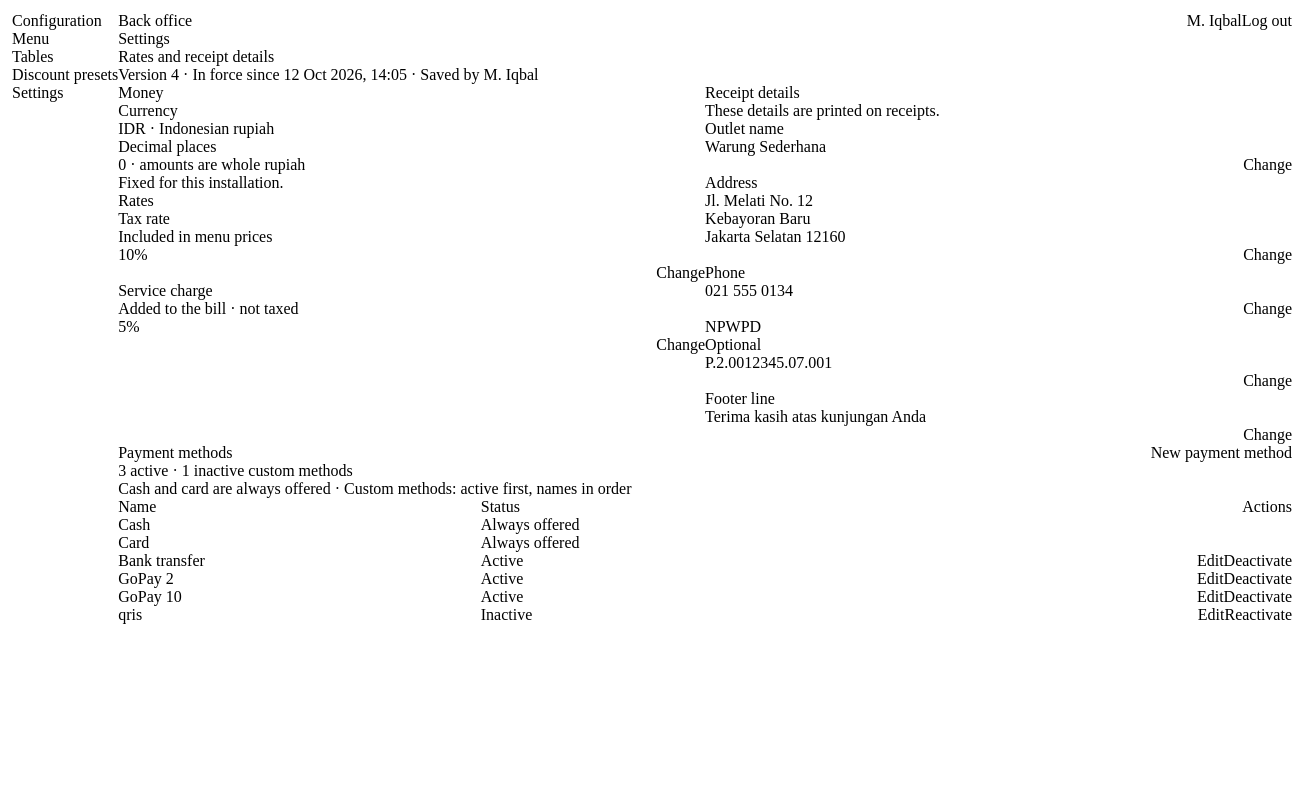
Scenario: AC 1. the order and the two fixed rows › sorts the answered record: a deactivated method moves below the active ones
Click the button "Deactivate" in the row of "Bank transfer" at (1258, 561), box [1224, 552, 1292, 570]
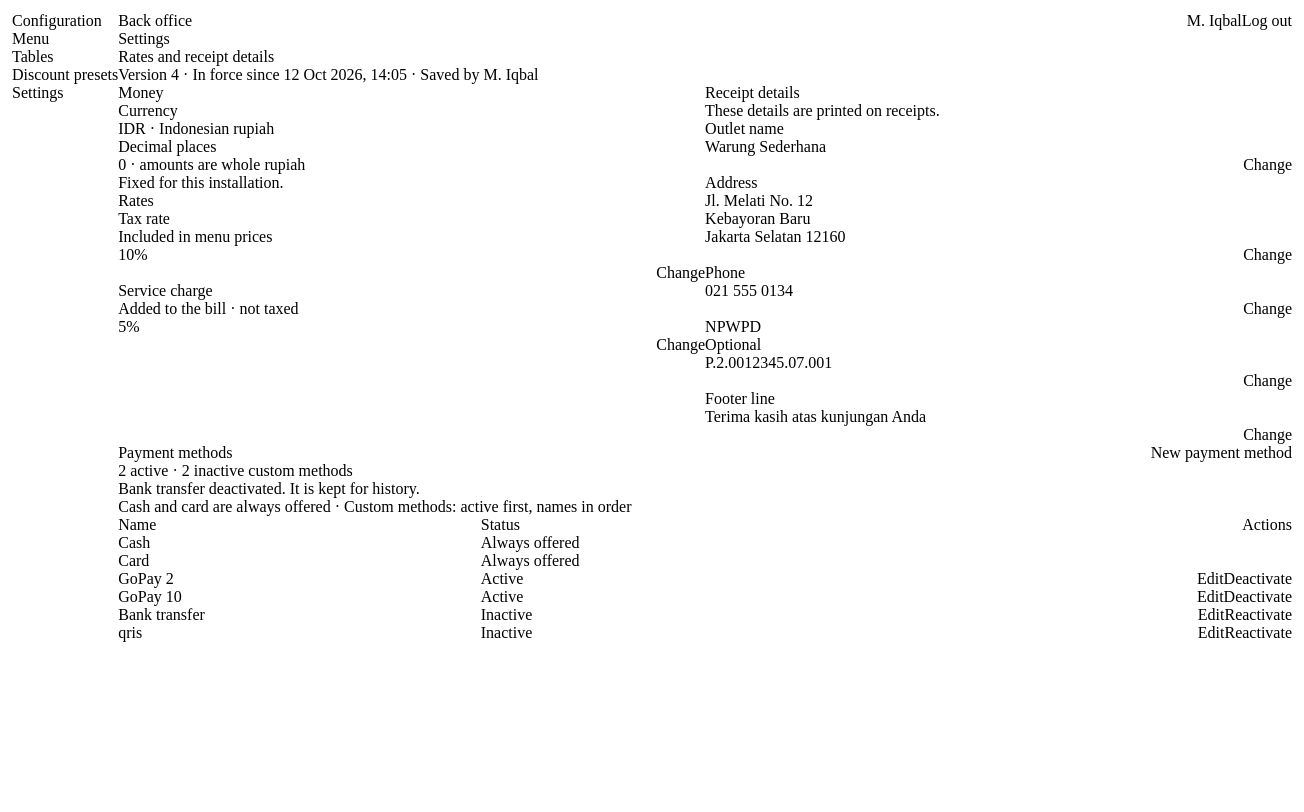
Expected: the text with id "method-count" reads "2 active · 2 inactive custom methods", [118, 462, 353, 479]
